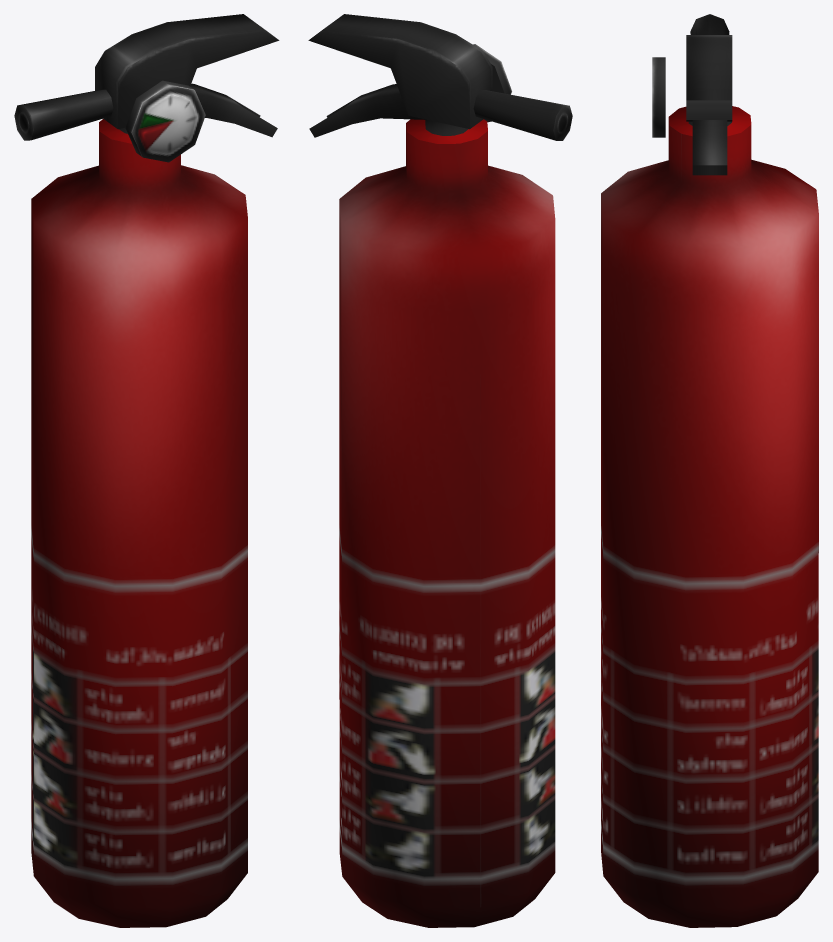
Rendered from QiCheXiuLiChang_01_miehuoqi_01.FBX.
3 renders of one model, left to right at view 1: azimuth 30°, elevation 25°; view 2: azimuth 150°, elevation 25°; view 3: azimuth 270°, elevation 25°, orthographic.
Parts seen in each view (by area): view 1: QiCheXiuLiChang_01_miehuoqi_01; view 2: QiCheXiuLiChang_01_miehuoqi_01; view 3: QiCheXiuLiChang_01_miehuoqi_01.
Part boxes in pixels (x1=…): QiCheXiuLiChang_01_miehuoqi_01: x1=14, y1=14, x2=279, y2=927; QiCheXiuLiChang_01_miehuoqi_01: x1=308, y1=14, x2=572, y2=927; QiCheXiuLiChang_01_miehuoqi_01: x1=601, y1=14, x2=818, y2=927.
Size of the model in its own units: 84.6 by 281 by 64.63.
